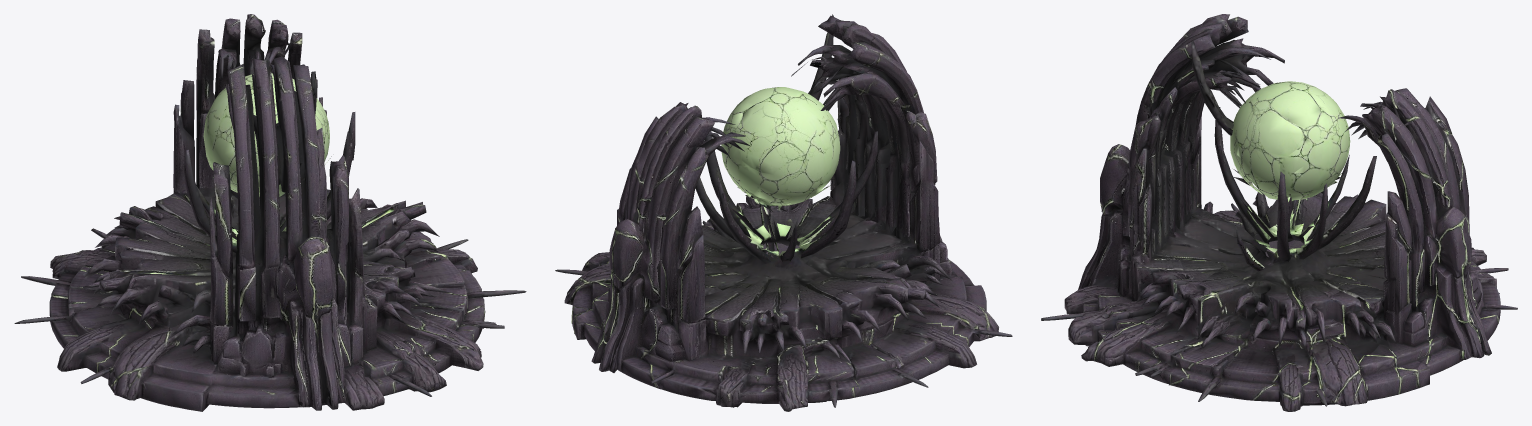
Rendered from Altar1.glb.
The picture shows the model from 3 angles, left to right: view 1: azimuth 30°, elevation 25°; view 2: azimuth 150°, elevation 25°; view 3: azimuth 270°, elevation 25°; orthographic projection. The views are drawn at different scales.
Parts seen in each view (by area): view 1: tripo_part_0, tripo_part_4, tripo_part_1, tripo_part_2, tripo_part_3, tripo_part_5; view 2: tripo_part_0, tripo_part_1, tripo_part_4, tripo_part_2, tripo_part_3, tripo_part_5, tripo_part_7; view 3: tripo_part_0, tripo_part_4, tripo_part_1, tripo_part_2, tripo_part_3, tripo_part_5, tripo_part_6, tripo_part_7.
Boxes of the visible parts, bbox=[...] form: tripo_part_0: bbox=[14, 189, 526, 411]; tripo_part_4: bbox=[167, 56, 377, 410]; tripo_part_1: bbox=[167, 14, 322, 206]; tripo_part_2: bbox=[203, 73, 331, 196]; tripo_part_3: bbox=[184, 149, 238, 252]; tripo_part_5: bbox=[280, 110, 355, 231]; tripo_part_0: bbox=[555, 171, 1012, 411]; tripo_part_1: bbox=[591, 102, 750, 372]; tripo_part_4: bbox=[791, 15, 957, 284]; tripo_part_2: bbox=[721, 87, 840, 211]; tripo_part_3: bbox=[779, 131, 877, 261]; tripo_part_5: bbox=[695, 117, 764, 249]; tripo_part_7: bbox=[717, 176, 770, 262]; tripo_part_0: bbox=[1041, 190, 1517, 411]; tripo_part_4: bbox=[1078, 14, 1284, 301]; tripo_part_1: bbox=[1338, 88, 1491, 360]; tripo_part_2: bbox=[1230, 81, 1350, 200]; tripo_part_3: bbox=[1214, 107, 1349, 241]; tripo_part_5: bbox=[1277, 171, 1328, 262]; tripo_part_6: bbox=[1191, 41, 1233, 135]; tripo_part_7: bbox=[1318, 156, 1376, 248].
Bounding box in the file's own units: 1 × 0.6565 × 0.9973.
10 materials, 10 textured.
